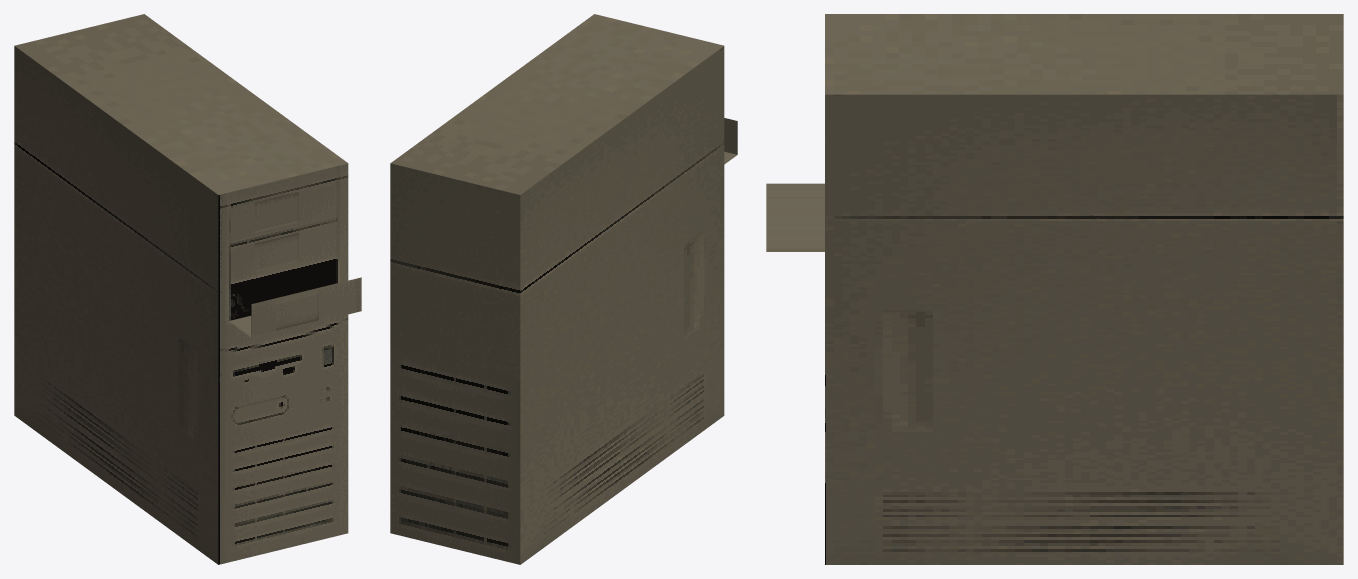
File: pc_tower.glb
3 views of the same model, side by side, from view 1: azimuth 30°, elevation 25°; view 2: azimuth 150°, elevation 25°; view 3: azimuth 270°, elevation 25° (orthographic). The views are drawn at different scales.
Visible parts, largest first — view 1: pc_tower; view 2: pc_tower; view 3: pc_tower.
Boxes of the visible parts, x1,y1,x2,y2 form: pc_tower: (14, 14, 361, 564); pc_tower: (390, 14, 737, 564); pc_tower: (766, 14, 1343, 564).
Bounding box in the file's own units: 0.1656 × 0.45 × 0.5009.
1 material, 1 textured.
